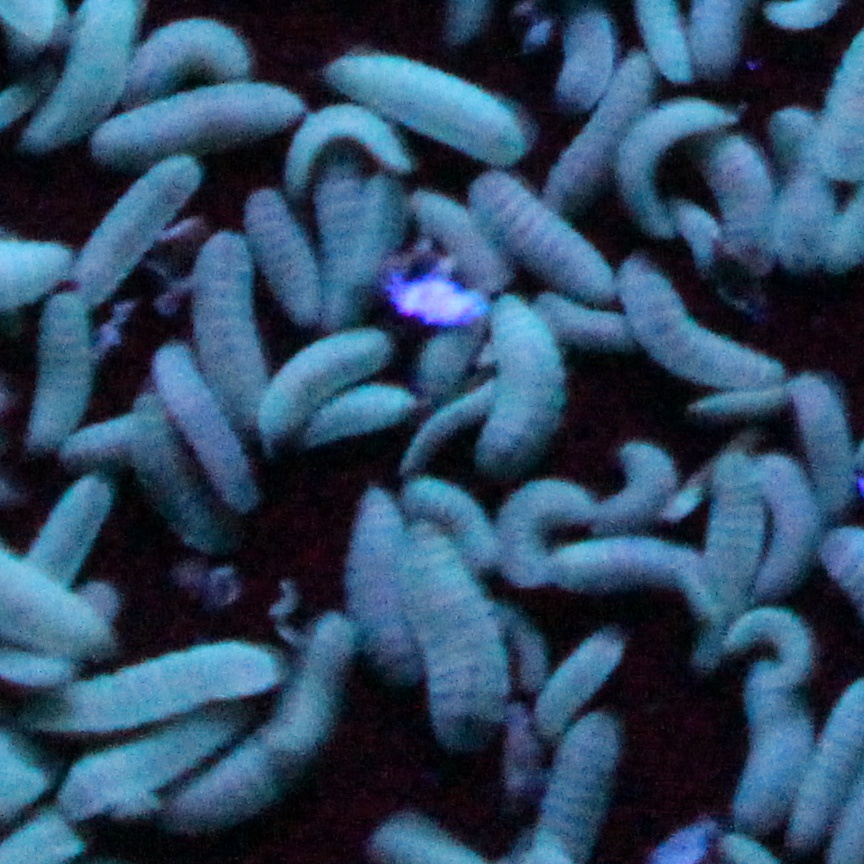larve: (170, 611, 351, 844), (11, 631, 289, 738), (398, 516, 511, 754), (320, 52, 526, 170), (56, 703, 251, 821), (611, 260, 784, 389), (469, 170, 614, 308), (76, 152, 201, 308), (471, 291, 571, 486), (89, 81, 310, 166), (346, 473, 428, 695), (611, 93, 738, 236), (538, 59, 651, 216), (670, 116, 787, 266), (153, 345, 262, 506), (131, 385, 227, 555), (193, 230, 274, 431), (691, 450, 760, 671), (258, 325, 388, 442), (551, 531, 714, 623), (528, 704, 622, 861), (731, 671, 820, 833), (768, 103, 840, 279), (406, 185, 518, 298), (123, 19, 253, 109), (284, 103, 412, 192), (502, 472, 596, 591), (242, 189, 320, 331), (311, 154, 370, 336), (790, 372, 860, 523), (27, 286, 90, 452), (23, 474, 108, 592), (394, 479, 503, 570), (757, 454, 821, 608), (402, 378, 501, 473), (298, 385, 414, 463), (537, 632, 622, 738), (717, 605, 821, 688), (596, 442, 681, 539), (527, 294, 659, 350), (350, 173, 406, 290), (54, 411, 142, 472), (488, 604, 546, 688), (691, 386, 794, 426), (507, 704, 541, 796)
